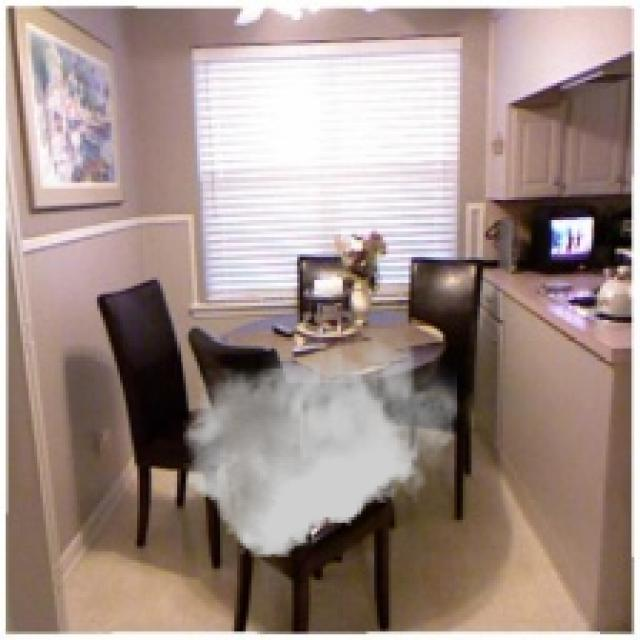smoke: (183, 329, 457, 557)
